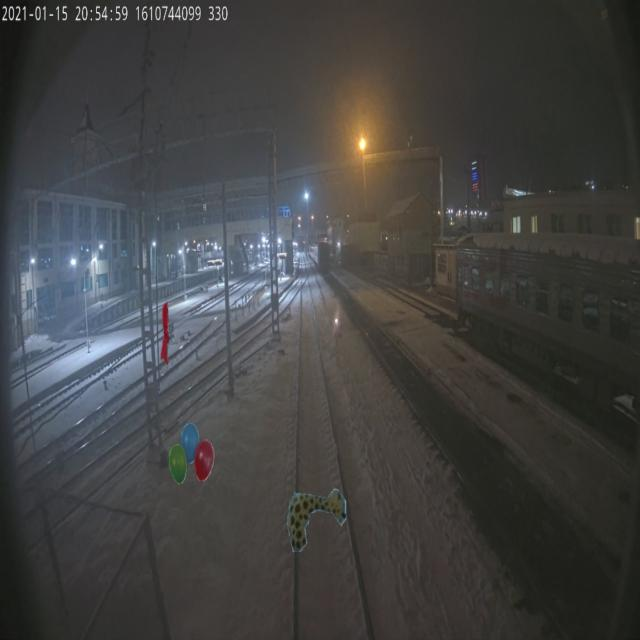balloon: (168, 422, 214, 486)
floating object: (287, 488, 346, 552), (161, 301, 170, 365)
